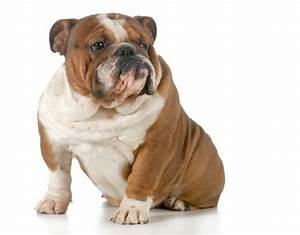dog: (34, 12, 225, 225)
